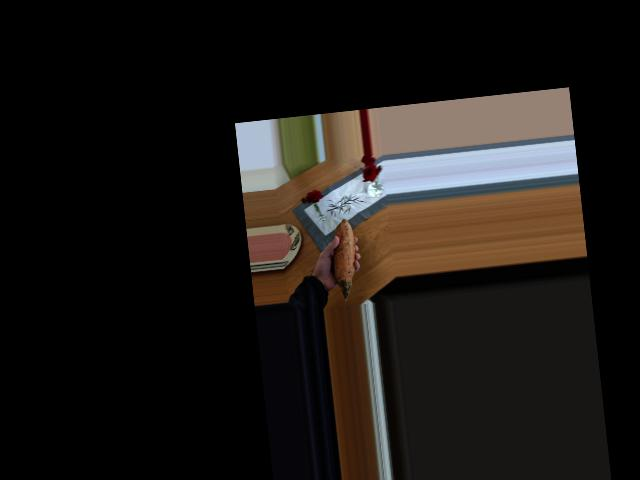sweet_potato: (321, 215, 363, 295)
